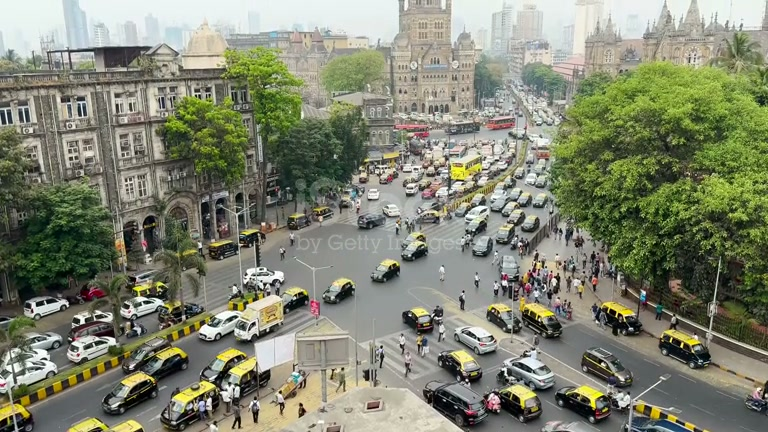bus: (450, 153, 483, 183)
car: (160, 379, 221, 430), (425, 381, 488, 428), (102, 371, 159, 416), (199, 347, 258, 390), (554, 383, 613, 423), (581, 345, 634, 388), (658, 327, 712, 369), (491, 384, 543, 423), (502, 354, 555, 391), (520, 301, 563, 339), (437, 348, 483, 383), (121, 340, 167, 373), (198, 310, 242, 343), (66, 335, 113, 364), (454, 325, 498, 355), (23, 296, 70, 320), (0, 401, 35, 432), (121, 297, 165, 320), (321, 276, 355, 304), (402, 305, 434, 333), (400, 231, 429, 261), (370, 258, 401, 283), (472, 235, 494, 257), (357, 213, 383, 229)
pedestrian: (250, 397, 260, 424)
truck: (233, 294, 285, 342), (658, 326, 712, 369)
